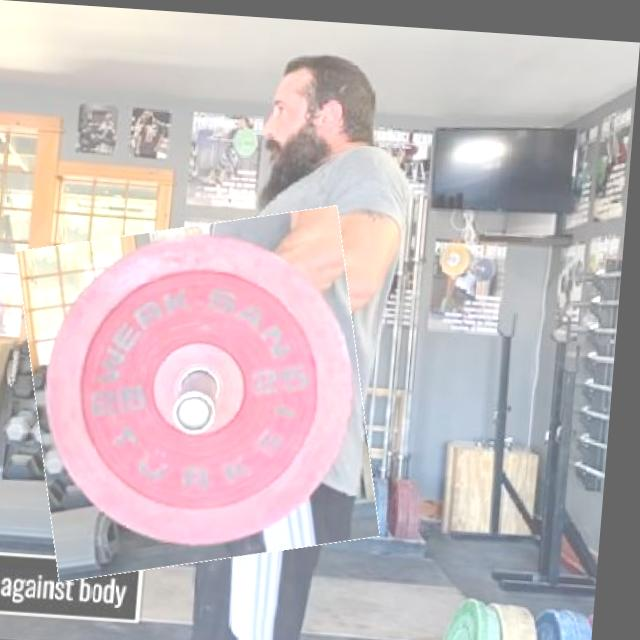barbell: (17, 201, 394, 582)
